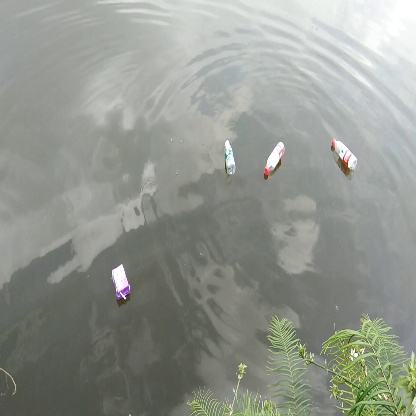bottle: (328, 134, 360, 175), (262, 141, 287, 180), (221, 139, 239, 175)
milk-box: (107, 261, 135, 304)
